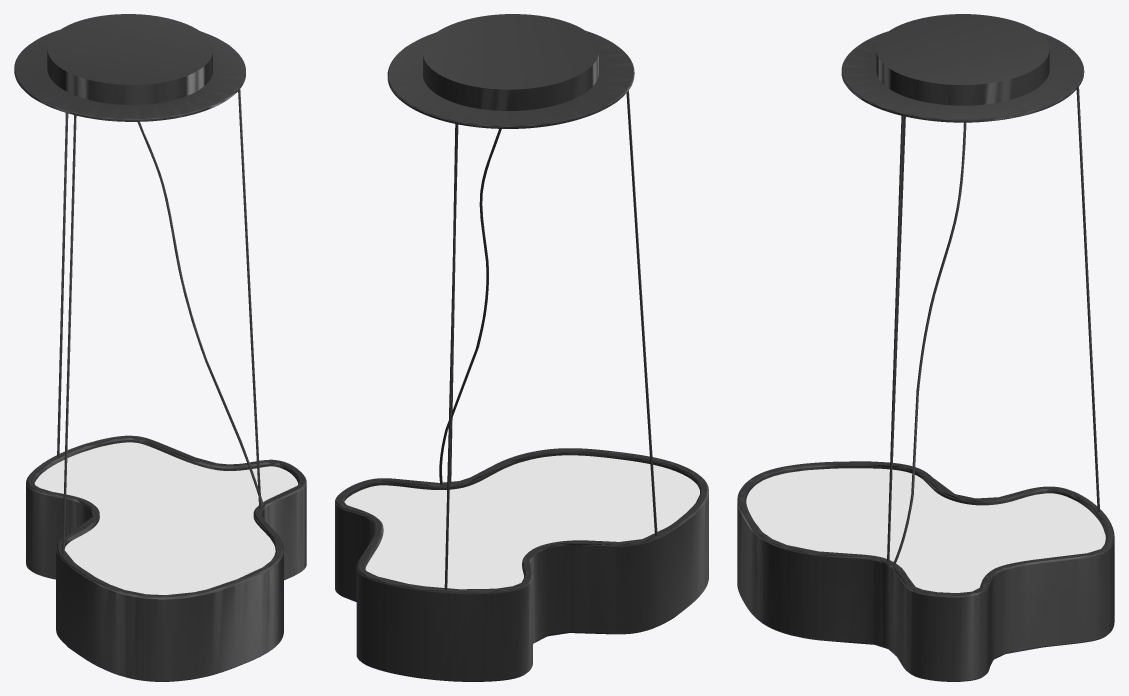
3 views of the same model, side by side, from view 1: azimuth 30°, elevation 25°; view 2: azimuth 150°, elevation 25°; view 3: azimuth 270°, elevation 25° (orthographic). The views are drawn at different scales.
Parts seen in each view (by area): view 1: solid_001_wire; view 2: solid_001_wire; view 3: solid_001_wire.
Boxes of the visible parts, x1,y1,x2,y2 form: solid_001_wire: (14, 14, 306, 681); solid_001_wire: (335, 14, 708, 681); solid_001_wire: (737, 14, 1114, 681).
Size of the model in its own units: 0.3658 by 0.6958 by 0.4312.
Materials: 1 (1 with a texture image).
